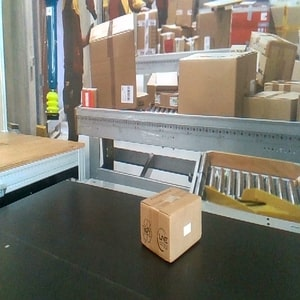box: (139, 186, 203, 264)
